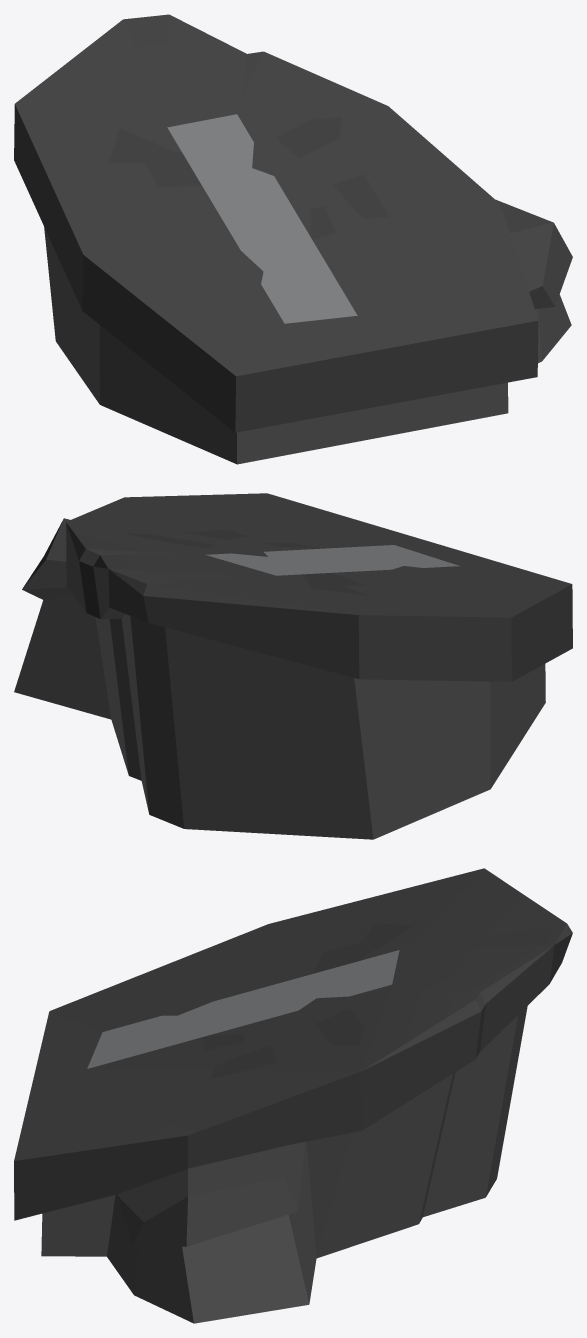
File: SM_Env_RoadPiece_Damaged_09.glb
3 views of the same model, one above another, from view 1: azimuth 30°, elevation 25°; view 2: azimuth 150°, elevation 25°; view 3: azimuth 270°, elevation 25° (orthographic). The views are drawn at different scales.
Visible parts, largest first — view 1: SM_Env_RoadPiece_Damaged_09; view 2: SM_Env_RoadPiece_Damaged_09; view 3: SM_Env_RoadPiece_Damaged_09.
Part boxes in pixels (x1,y1,x2,y2): SM_Env_RoadPiece_Damaged_09: (14, 14, 572, 464); SM_Env_RoadPiece_Damaged_09: (14, 493, 572, 839); SM_Env_RoadPiece_Damaged_09: (14, 868, 572, 1323).
Bounding box in the file's own units: 2.14 × 1.11 × 2.15.
Materials: 1 (1 with a texture image).
